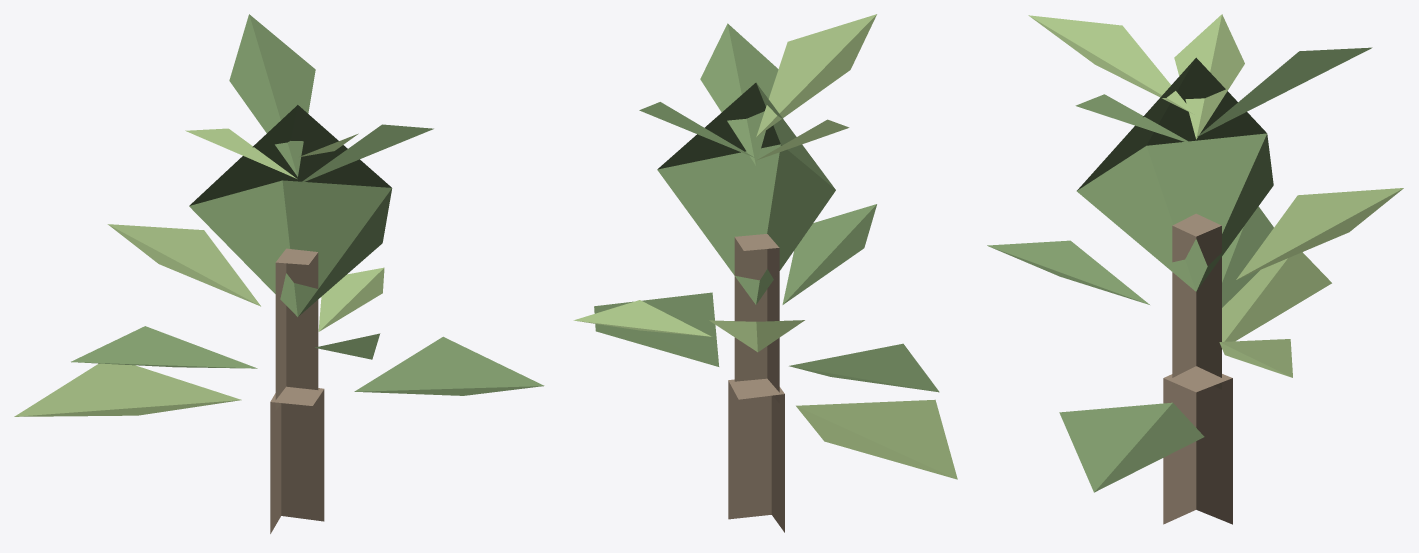
File: shu.fenghuang@seedling__bloom.glb
The picture shows the model from 3 angles, left to right: view 1: azimuth 30°, elevation 25°; view 2: azimuth 150°, elevation 25°; view 3: azimuth 270°, elevation 25°; orthographic projection. The views are drawn at different scales.
Parts seen in each view (by area): view 1: shu.fenghuang@seedling__bloom; view 2: shu.fenghuang@seedling__bloom; view 3: shu.fenghuang@seedling__bloom.
Boxes of the visible parts, <box> form: shu.fenghuang@seedling__bloom: <box>14,14,544,533</box>; shu.fenghuang@seedling__bloom: <box>573,14,957,532</box>; shu.fenghuang@seedling__bloom: <box>987,14,1403,524</box>.
Size of the model in its own units: 1.4 by 1.37 by 1.05.
